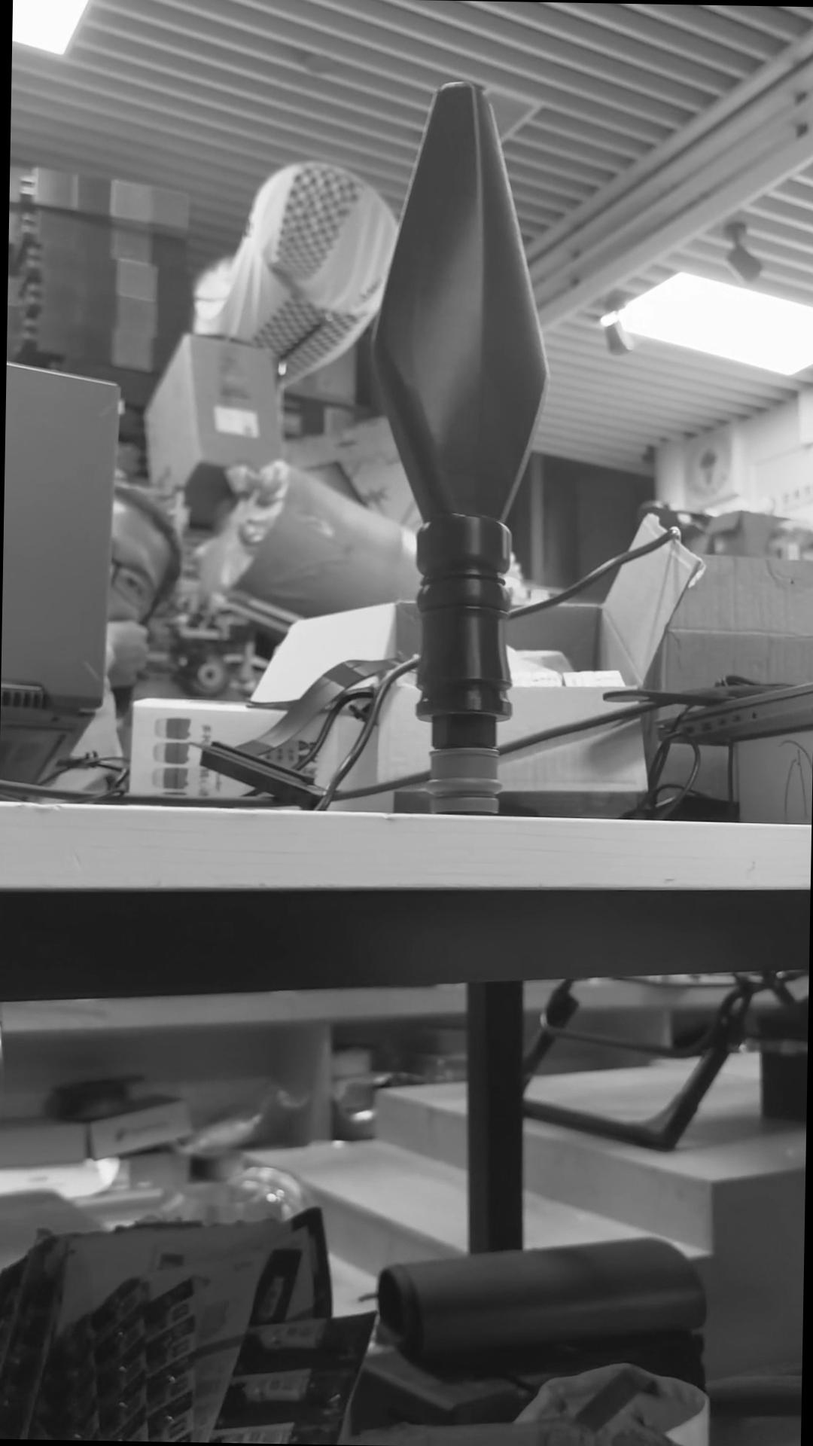base: (428, 743, 495, 805)
